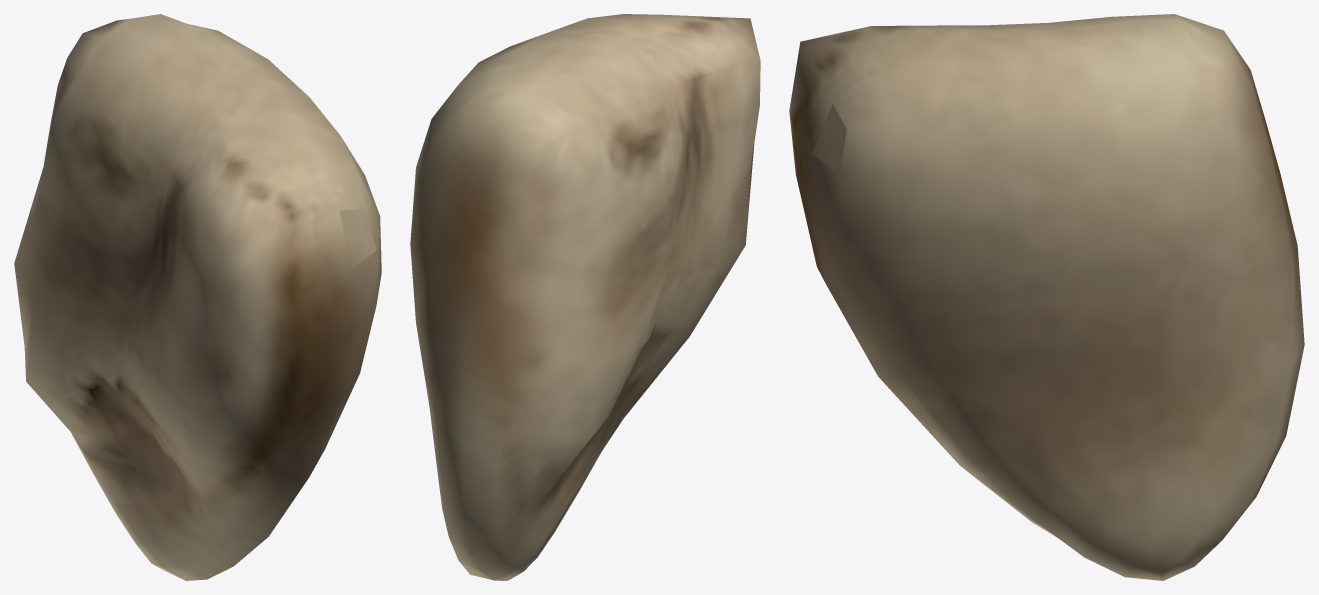
File: Mandibular_Premolar1.glb
3 renders of one model, left to right at view 1: azimuth 30°, elevation 25°; view 2: azimuth 150°, elevation 25°; view 3: azimuth 270°, elevation 25°, orthographic. The views are drawn at different scales.
Parts seen in each view (by area): view 1: Premolar1; view 2: Premolar1; view 3: Premolar1.
Part boxes in pixels (bbox=[...]): Premolar1: bbox=[14, 14, 381, 580]; Premolar1: bbox=[410, 14, 760, 580]; Premolar1: bbox=[789, 14, 1304, 580].
Bounding box in the file's own units: 0.0153 × 0.0352 × 0.0305.
Materials: 1 (1 with a texture image).
